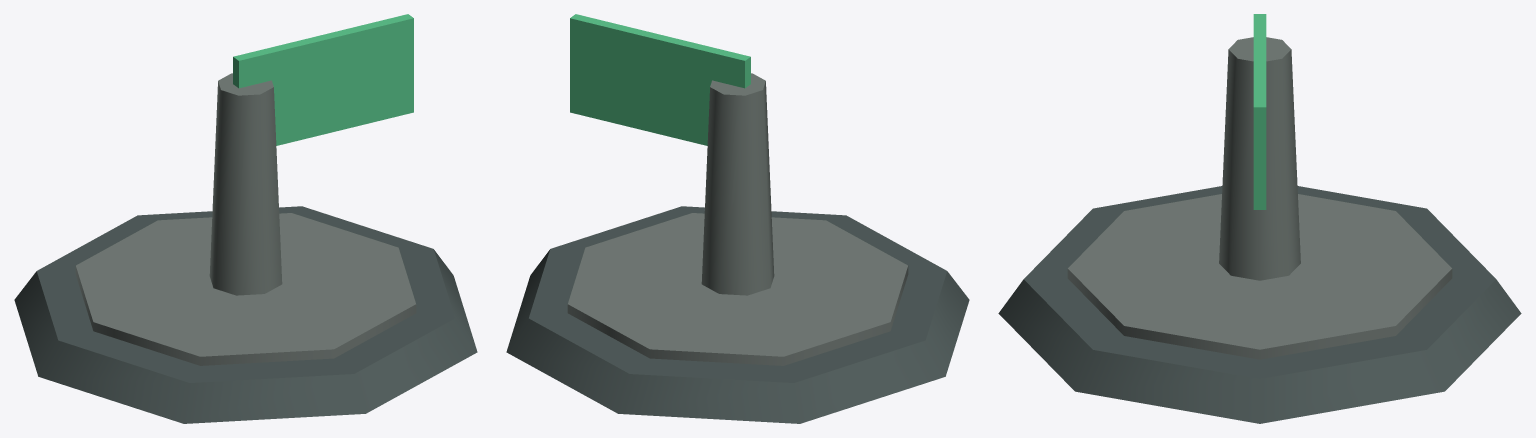
File: claim_marker.glb
3 renders of one model, left to right at view 1: azimuth 30°, elevation 25°; view 2: azimuth 150°, elevation 25°; view 3: azimuth 270°, elevation 25°, orthographic. The views are drawn at different scales.
Parts seen in each view (by area): view 1: claim_marker; view 2: claim_marker; view 3: claim_marker.
Part boxes in pixels (<box>): claim_marker: <box>14,14,477,423</box>; claim_marker: <box>506,14,969,423</box>; claim_marker: <box>998,14,1521,423</box>.
Bounding box in the file's own units: 1.66 × 1.03 × 1.66.
